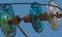gap: (1, 2, 44, 37)
